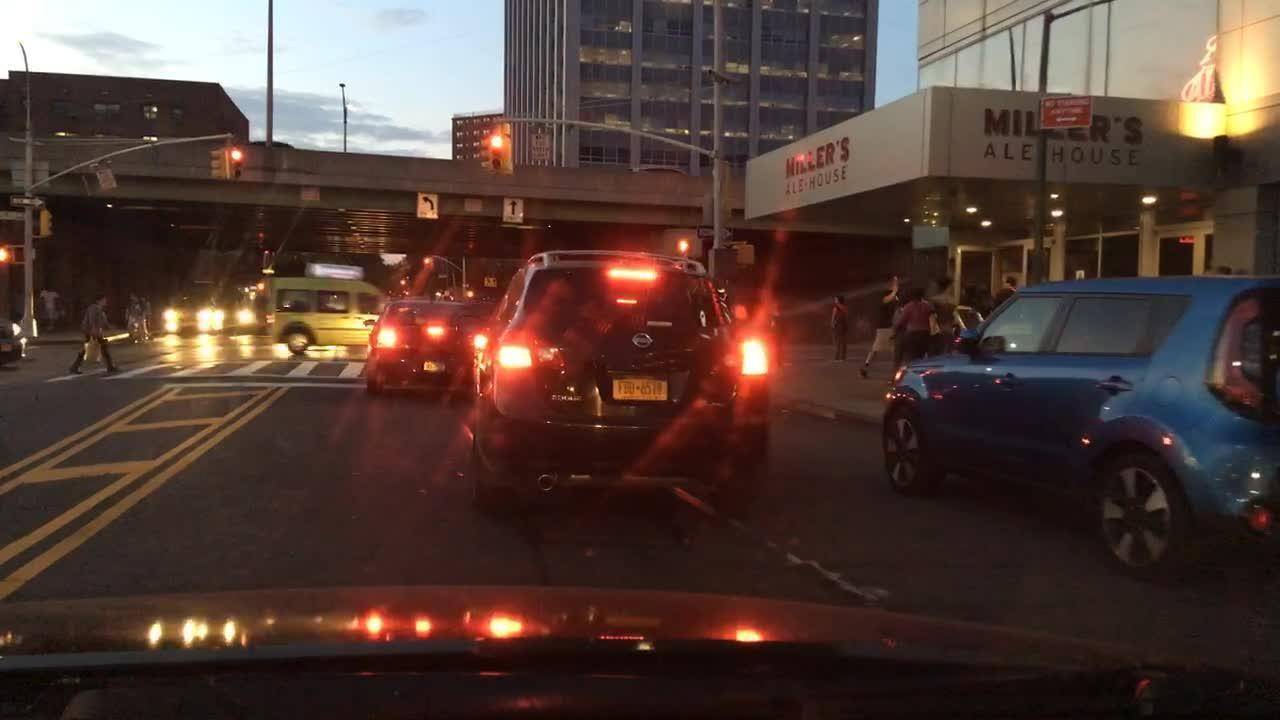Nissan: (628, 327, 657, 354)
